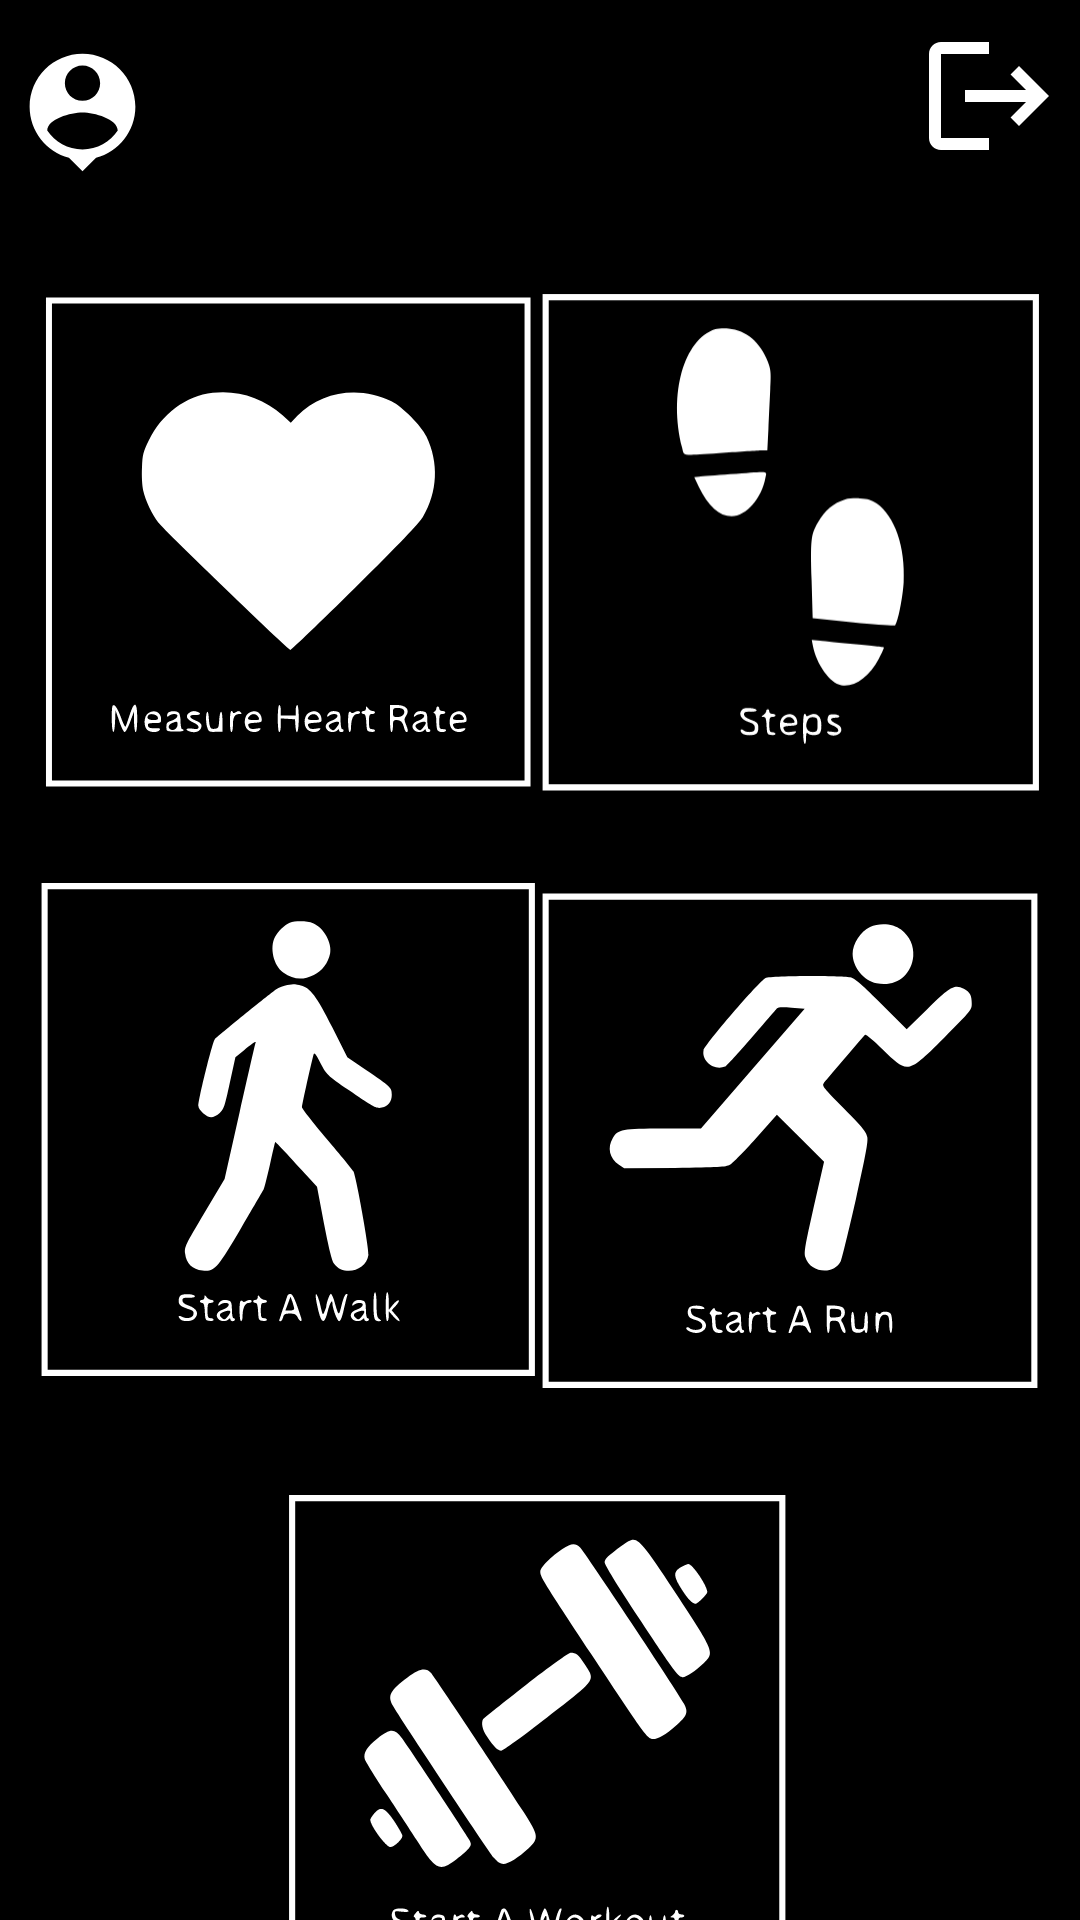

Where icons sit on this 1080*1920 app screen, as {"left": x1, "top": y1, "right": x2, "bottom": y2}:
person pin: {"left": 29, "top": 53, "right": 136, "bottom": 171}
